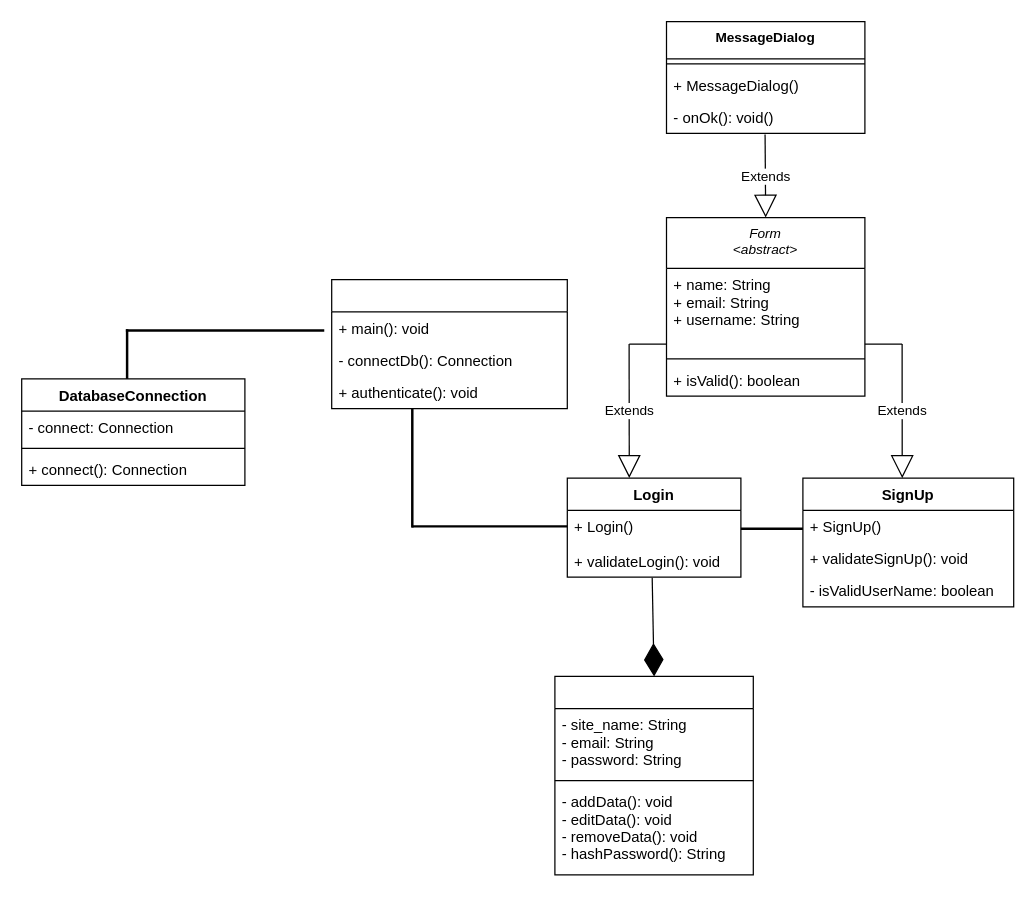
Some shapes in this 1035 by 900 pixel diagram are drawn without their labels. Here are the shapes that lost their labels. From the top down, the box of each, then its label:
(330, 278, 567, 409): HideMe
(554, 675, 753, 875): Dashboard
